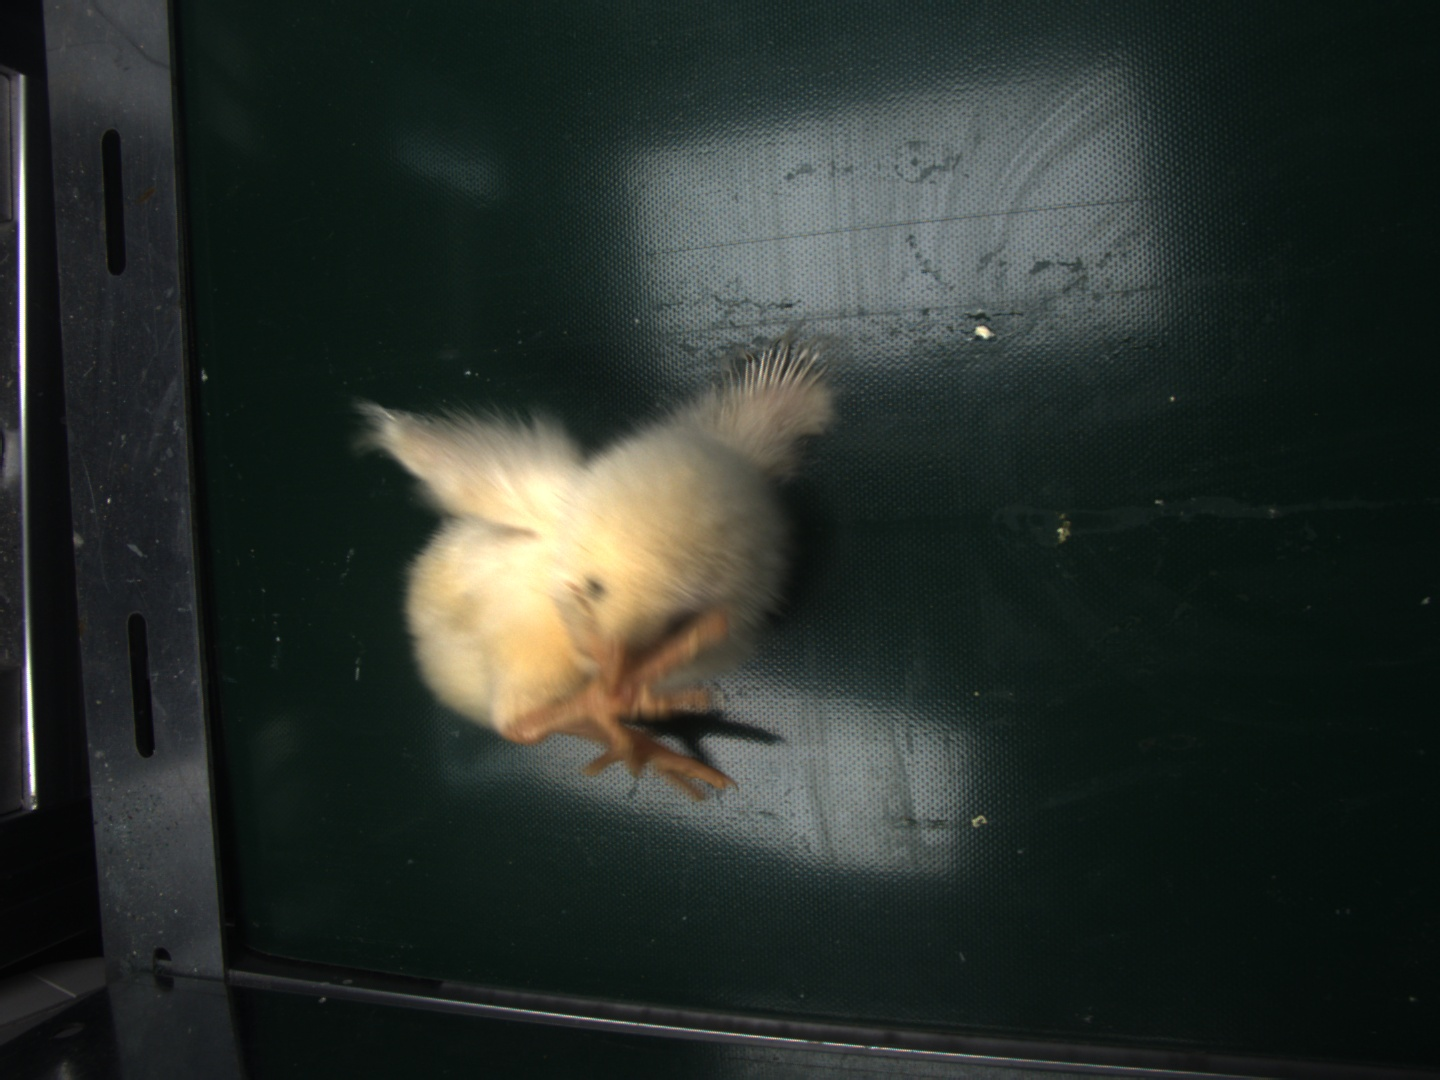male: (732, 341, 824, 394)
